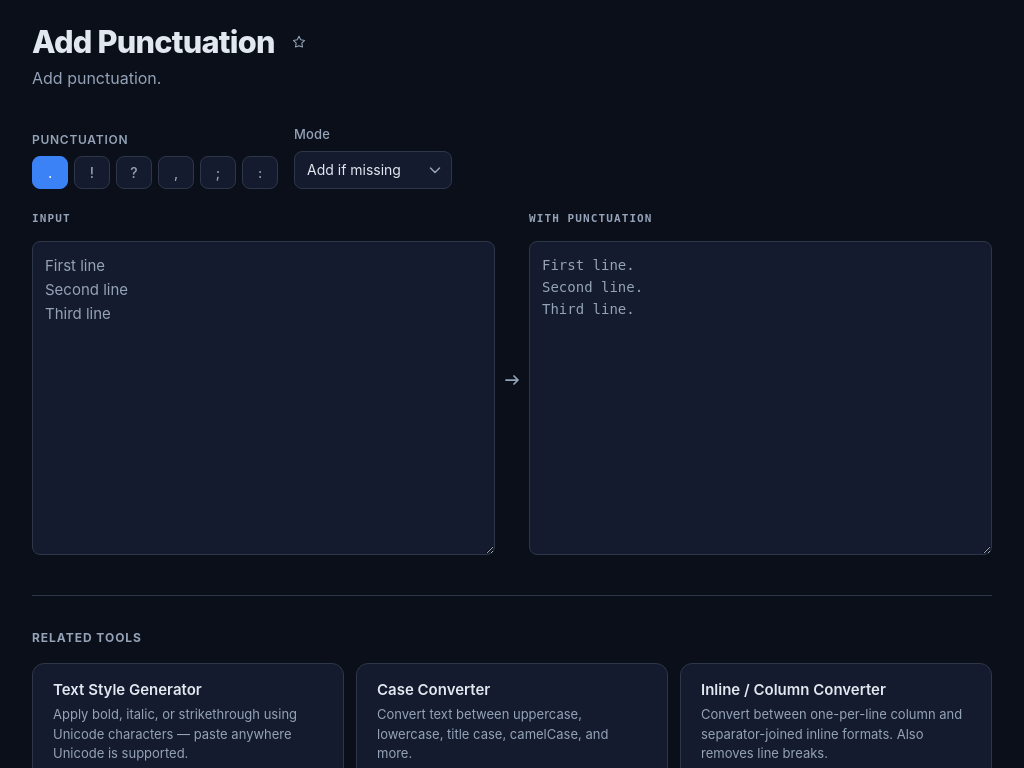
Test: AddPunctuation › selects different punctuation marks via buttons
Click the button "!" at {"x": 92, "y": 172}, box [74,156,110,188]
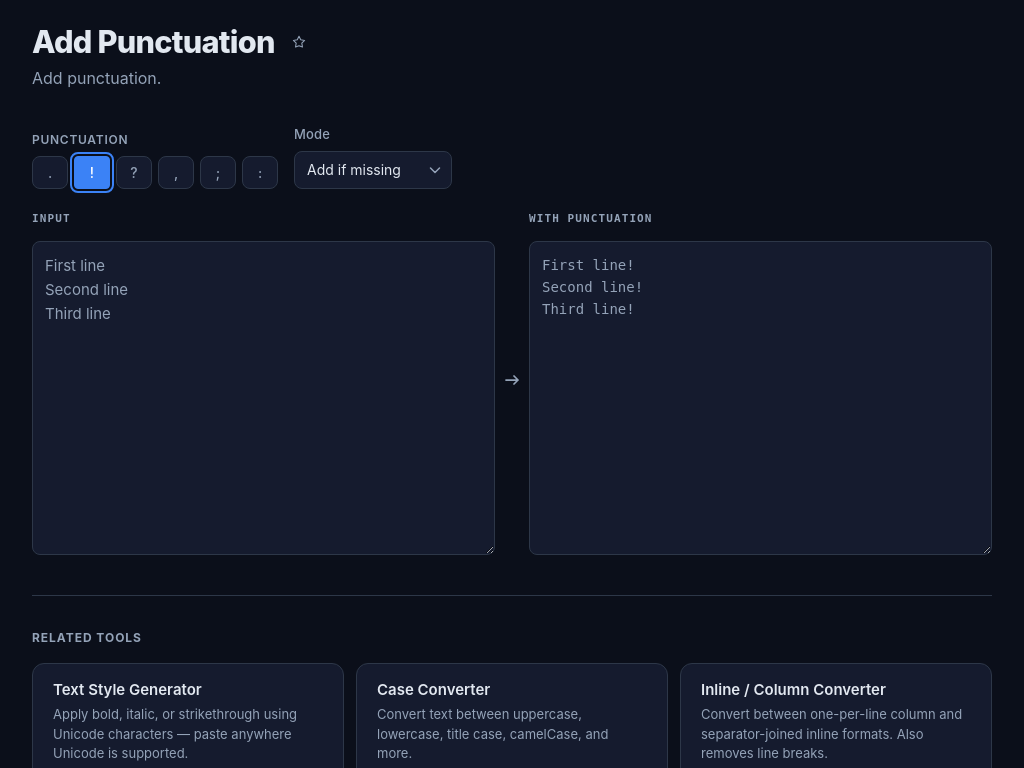
Type "Hello" into the text box named "input" at {"x": 264, "y": 398}, box [32,240,495,554]
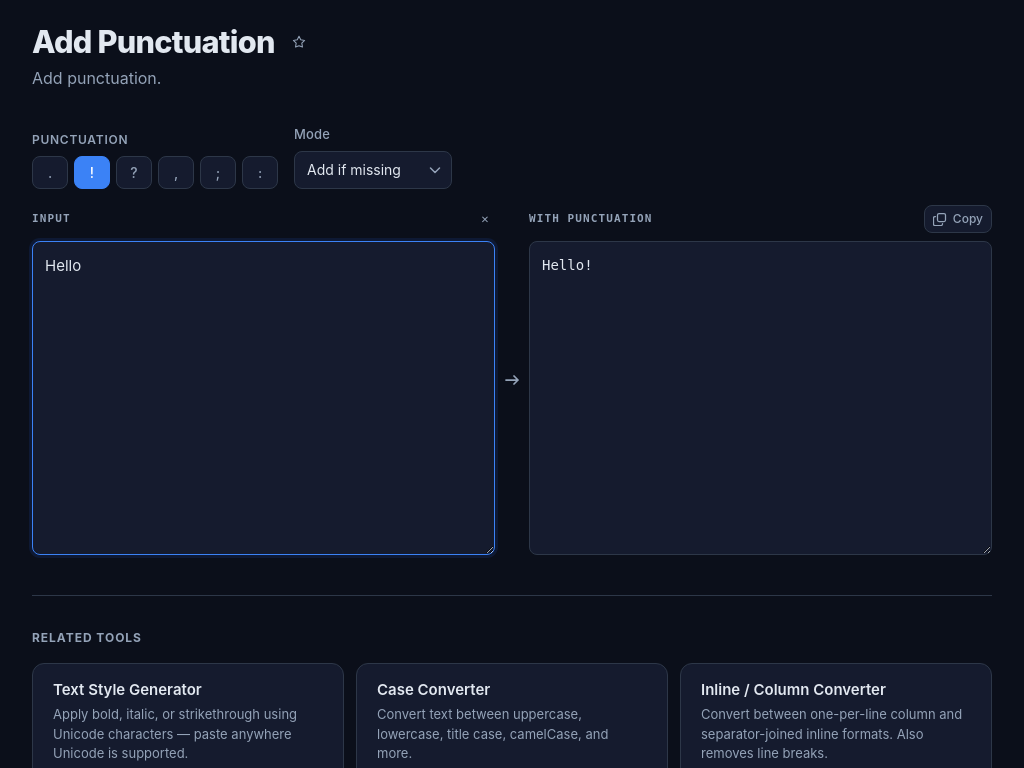
Result: the text box named "with punctuation" holds "Hello!" at [529,240,992,554]
